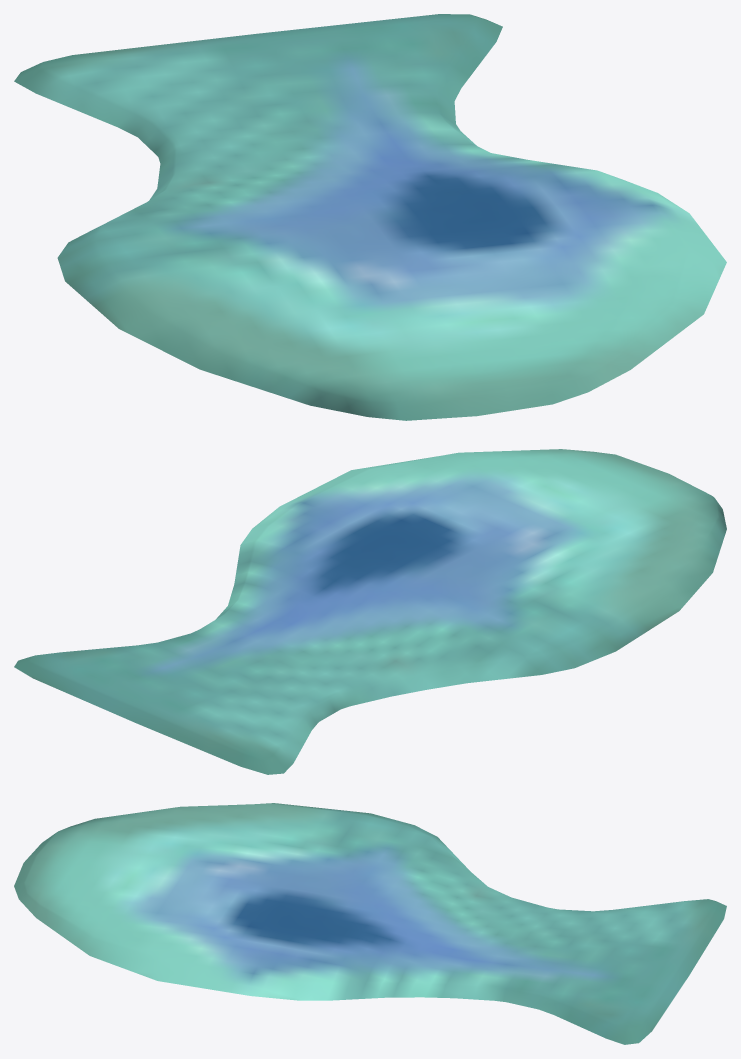
File: Beach_Tavern_Rug.glb
3 renders of one model, top to bottom at view 1: azimuth 30°, elevation 25°; view 2: azimuth 150°, elevation 25°; view 3: azimuth 270°, elevation 25°, orthographic. The views are drawn at different scales.
Parts seen in each view (by area): view 1: Object_2.013; view 2: Object_2.013; view 3: Object_2.013.
Boxes of the visible parts, bbox=[...] form: Object_2.013: bbox=[14, 14, 726, 420]; Object_2.013: bbox=[14, 449, 726, 774]; Object_2.013: bbox=[14, 803, 726, 1044].
Bounding box in the file's own units: 6.58 × 0.5909 × 9.18.
1 material, 1 textured.
